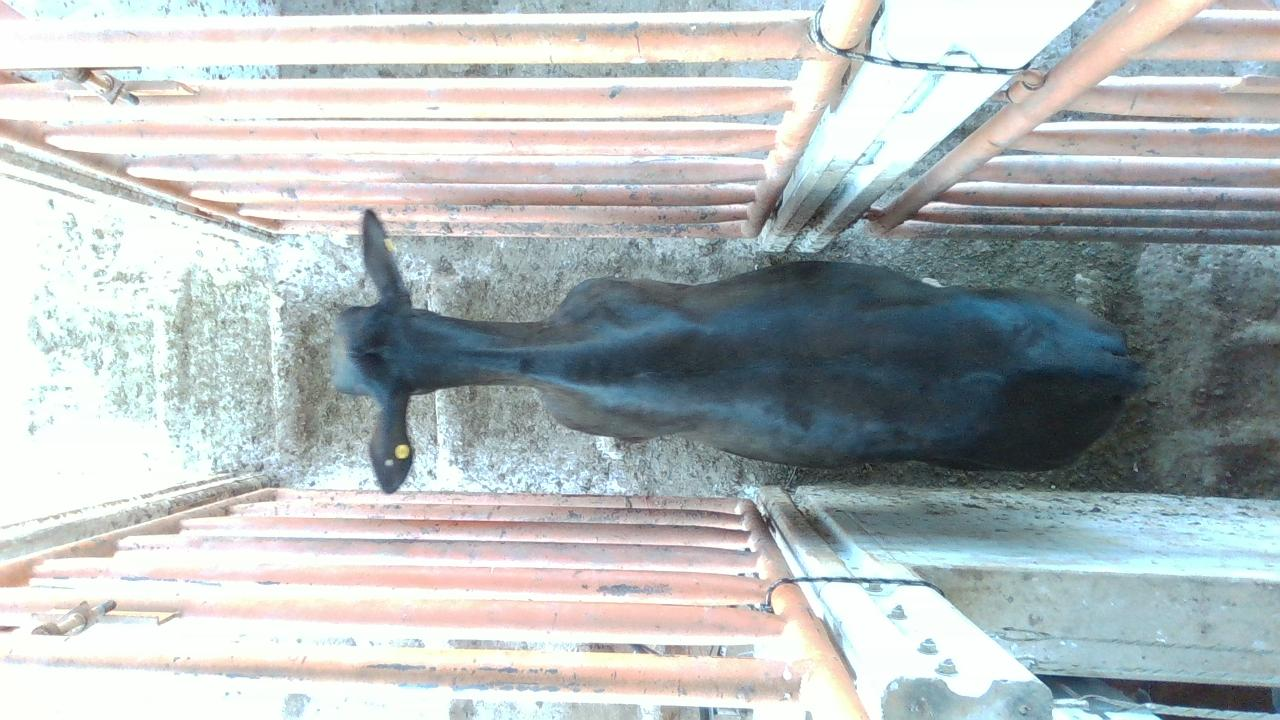cattle: (328, 206, 1149, 492)
